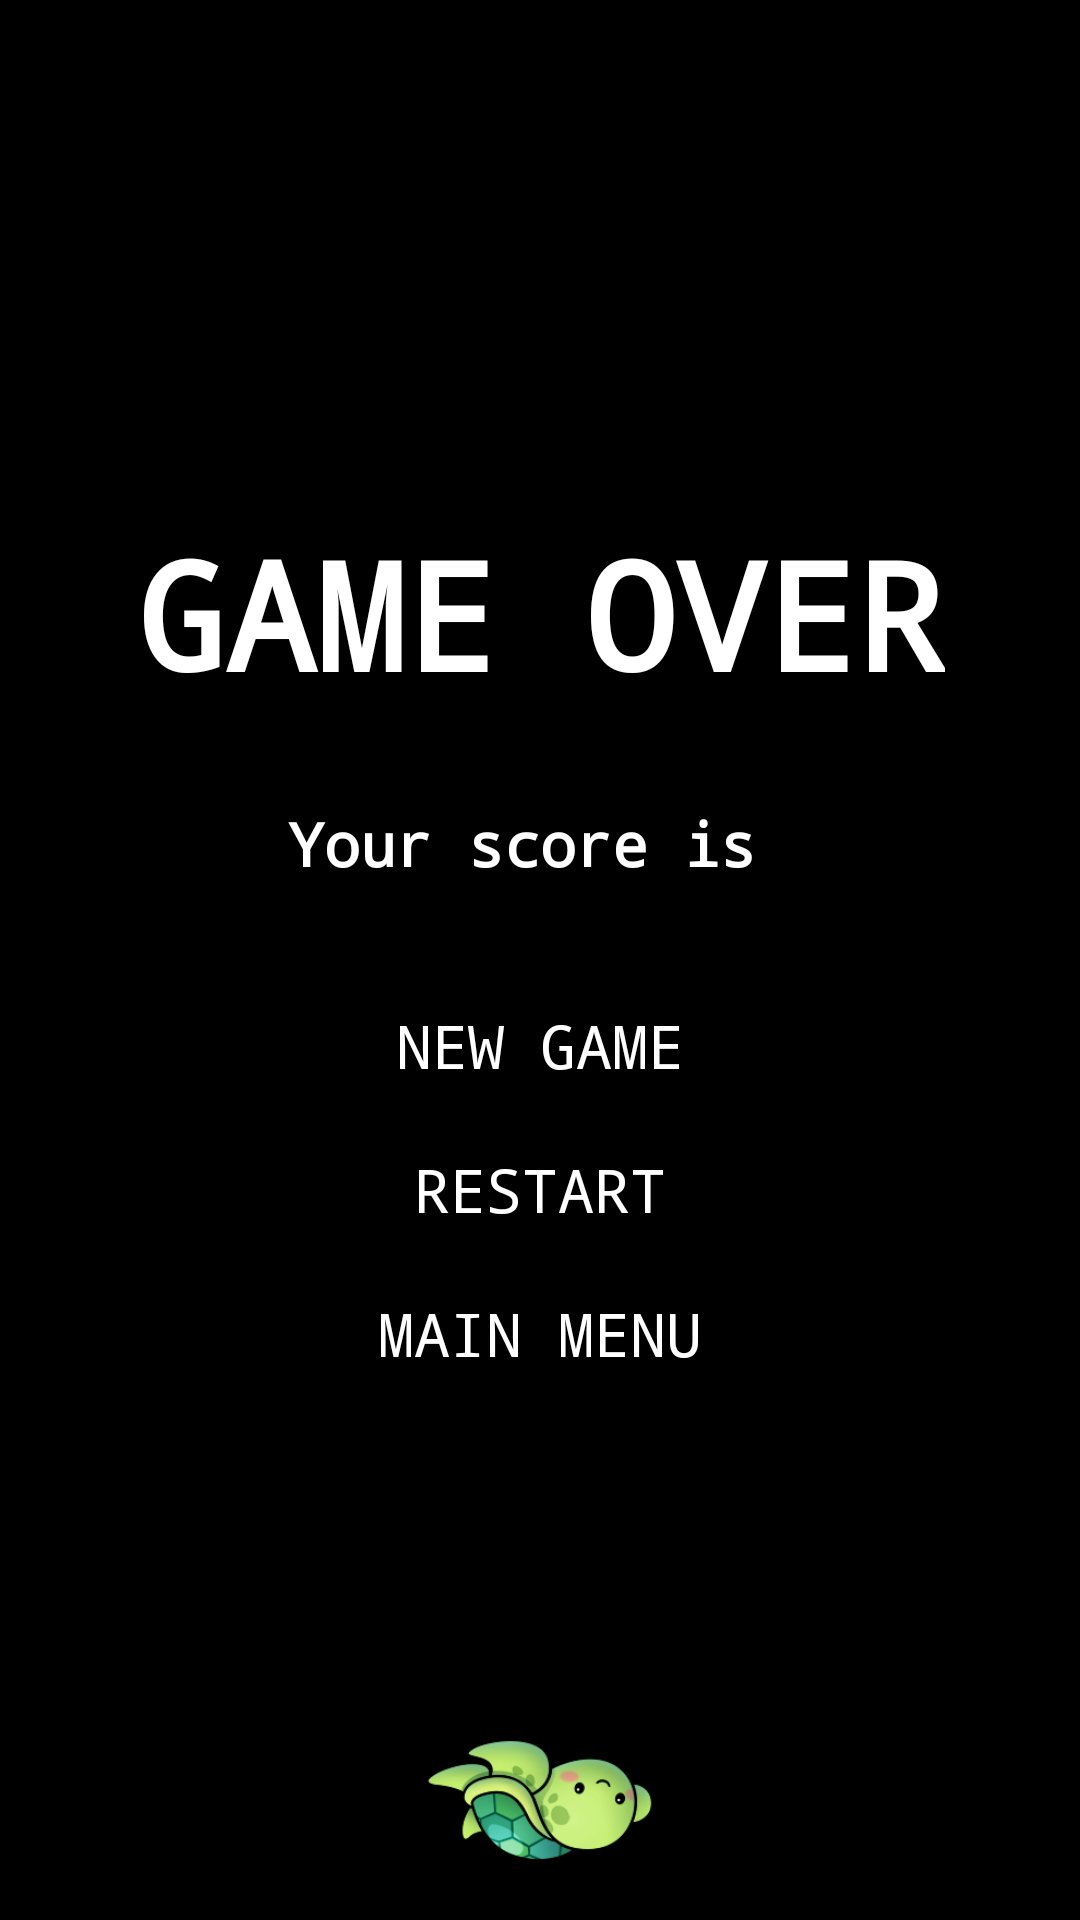

Screen size 1080 x 1920. Icon name, then its center in pixels as point (x, y):
deadturtle: point (540, 1800)
